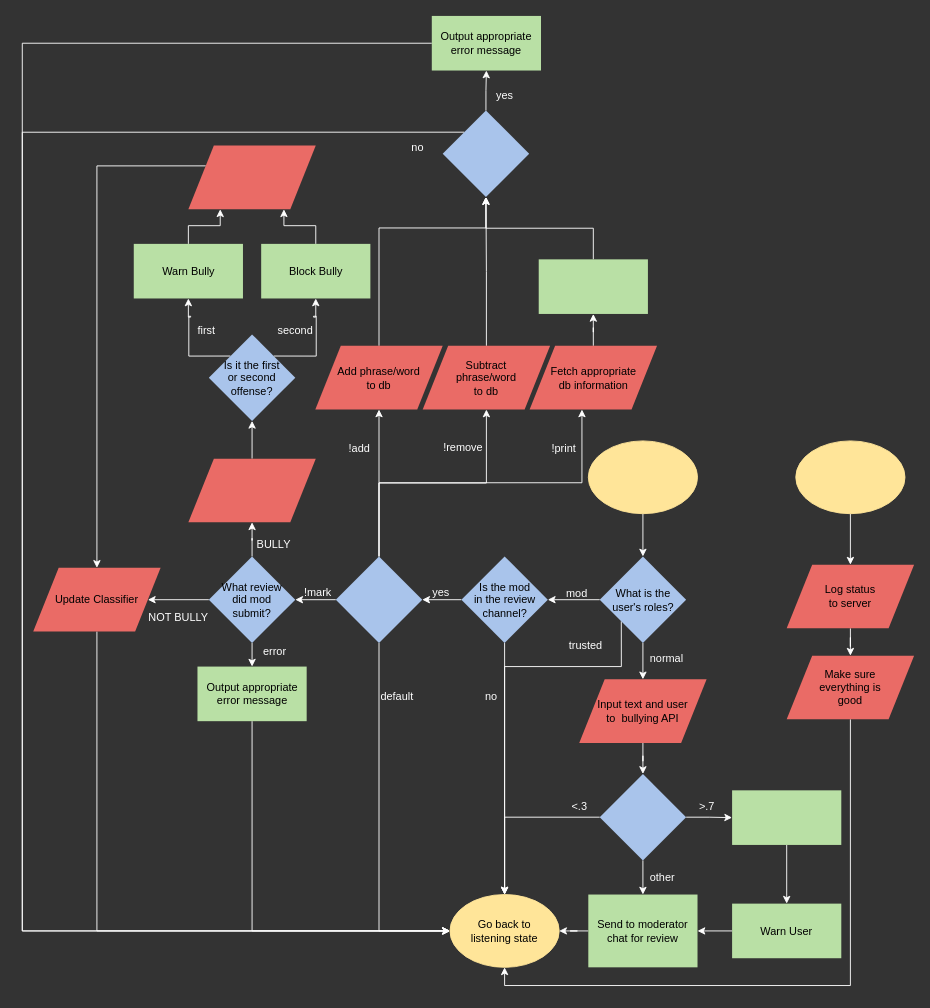
Image size: 930x1008. Some labels were removed from this diagram. The centre of each missing label's shape, as x and y in pixels:
"Application Starts" belongs at pixel 850 477.
"Delete Message" belongs at pixel 786 817.
"Error?" belongs at pixel 485 153.
"Fetch Bully's Info from database" belongs at pixel 251 490.
"How close is it to hate speech?" belongs at pixel 642 817.
"Print out fetched data" belongs at pixel 592 286.
"Update Bully's Info from database" belongs at pixel 251 177.
"User Inputs Text" belongs at pixel 642 477.
"What is the prefix?" belongs at pixel 378 599.
